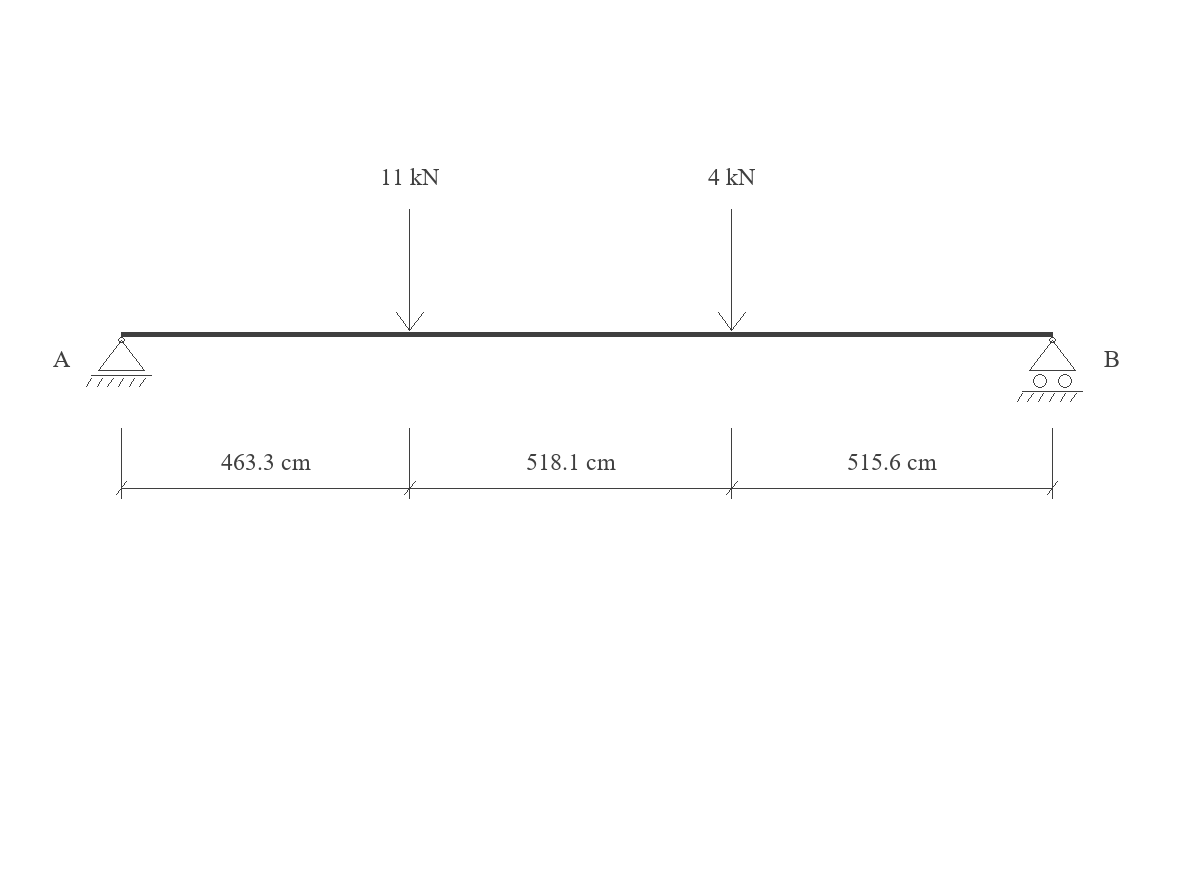pin_support: (86, 337, 152, 387)
point_load: (396, 209, 424, 331), (718, 209, 746, 331)
roller_support: (1017, 337, 1083, 402)
